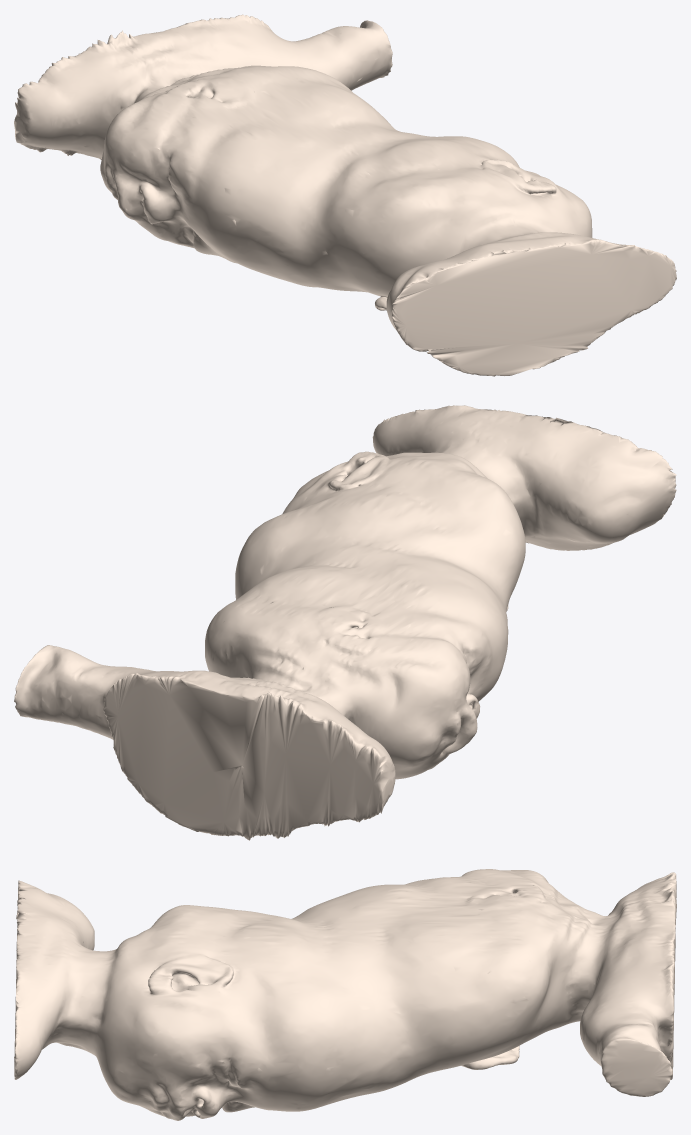
Rendered from modelo.glb.
3 views of the same model, one above another, from view 1: azimuth 30°, elevation 25°; view 2: azimuth 150°, elevation 25°; view 3: azimuth 270°, elevation 25° (orthographic). The views are drawn at different scales.
Visible parts, largest first — view 1: Skin; view 2: Skin; view 3: Skin.
Part boxes in pixels (x1,y1,x2,y2): Skin: (14,14,676,376); Skin: (14,405,676,840); Skin: (14,869,676,1120).
Size of the model in its own units: 237 by 104 by 393.
